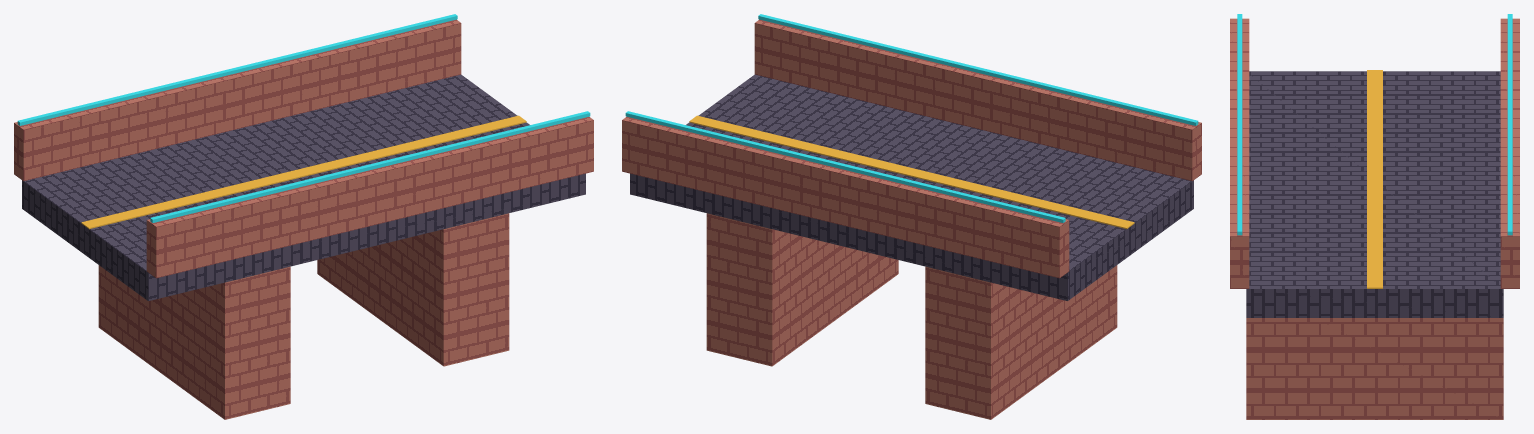
Rendered from pf_pont.glb.
3 views of the same model, side by side, from view 1: azimuth 30°, elevation 25°; view 2: azimuth 150°, elevation 25°; view 3: azimuth 270°, elevation 25° (orthographic).
Visible parts, largest first — view 1: p_box.1590, p_box.1591, p_box.1593, p_box.1595, p_box.1596, p_box.1597, p_box.1594, p_box.1592; view 2: p_box.1590, p_box.1591, p_box.1593, p_box.1595, p_box.1596, p_box.1597, p_box.1592, p_box.1594; view 3: p_box.1590, p_box.1596, p_box.1591, p_box.1593, p_box.1597, p_box.1592, p_box.1594.
Boxes of the visible parts, x1=… form: p_box.1590: x1=22, y1=74, x2=585, y2=300; p_box.1591: x1=146, y1=117, x2=593, y2=278; p_box.1593: x1=14, y1=19, x2=461, y2=181; p_box.1595: x1=98, y1=265, x2=290, y2=419; p_box.1596: x1=317, y1=213, x2=509, y2=366; p_box.1597: x1=81, y1=115, x2=526, y2=229; p_box.1594: x1=17, y1=14, x2=457, y2=125; p_box.1592: x1=150, y1=111, x2=590, y2=222; p_box.1590: x1=630, y1=74, x2=1193, y2=300; p_box.1591: x1=754, y1=19, x2=1201, y2=181; p_box.1593: x1=622, y1=117, x2=1069, y2=278; p_box.1595: x1=925, y1=265, x2=1117, y2=419; p_box.1596: x1=706, y1=213, x2=898, y2=366; p_box.1597: x1=689, y1=115, x2=1134, y2=229; p_box.1592: x1=758, y1=14, x2=1198, y2=125; p_box.1594: x1=625, y1=111, x2=1065, y2=222; p_box.1590: x1=1246, y1=71, x2=1503, y2=317; p_box.1596: x1=1246, y1=318, x2=1503, y2=419; p_box.1591: x1=1230, y1=18, x2=1249, y2=288; p_box.1593: x1=1500, y1=18, x2=1519, y2=288; p_box.1597: x1=1367, y1=70, x2=1382, y2=288; p_box.1592: x1=1237, y1=14, x2=1242, y2=235; p_box.1594: x1=1507, y1=14, x2=1512, y2=235.
Size of the model in its own units: 8 by 3.88 by 4.5.
Materials: 4 (2 with a texture image).
